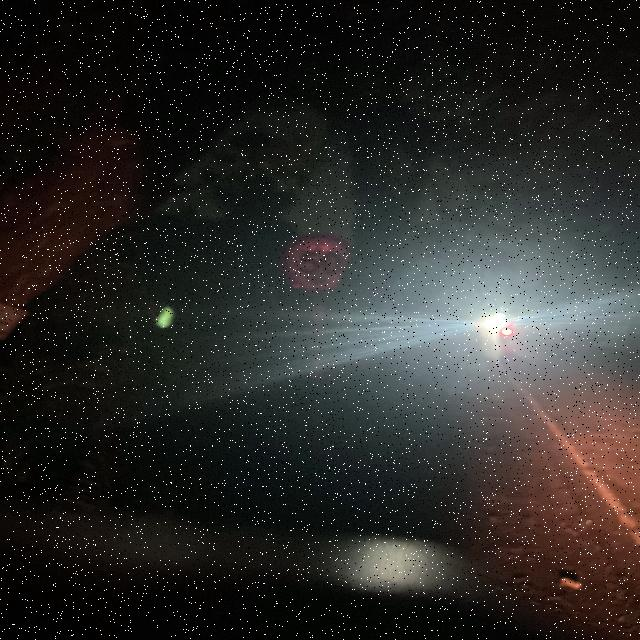speed_limit_50: (280, 226, 356, 297)
